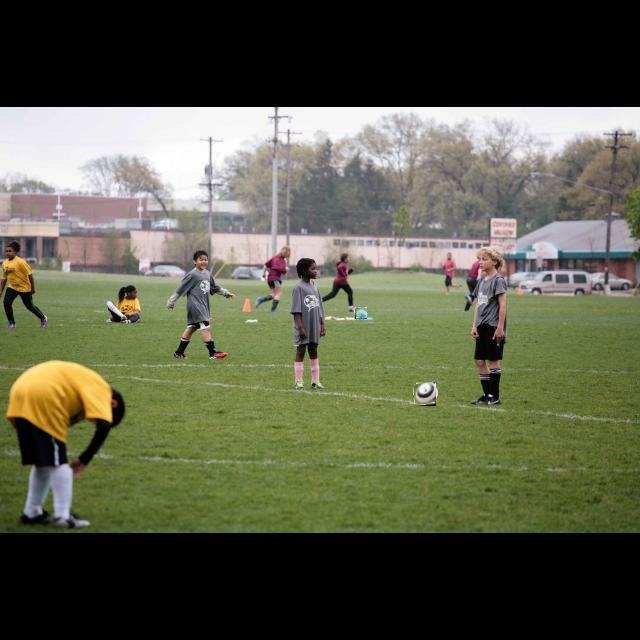Football: (414, 382, 436, 406), (355, 307, 367, 319)
